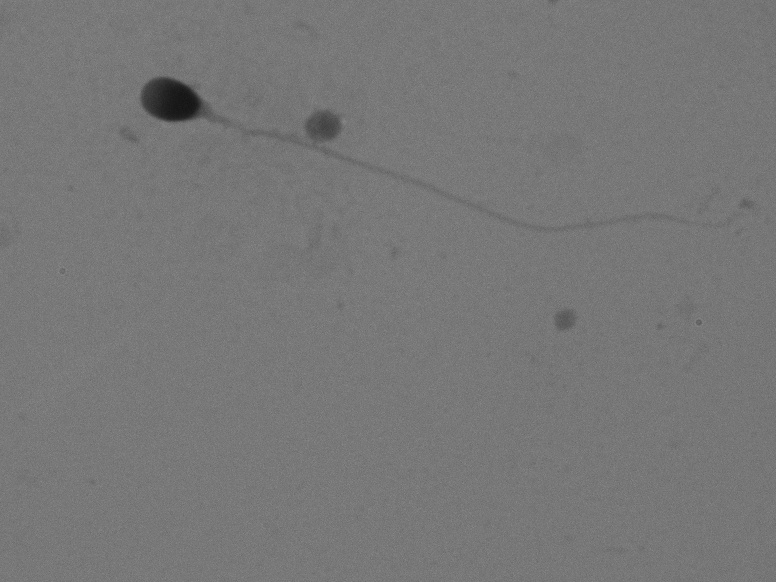Normal: (131, 68, 745, 276)
